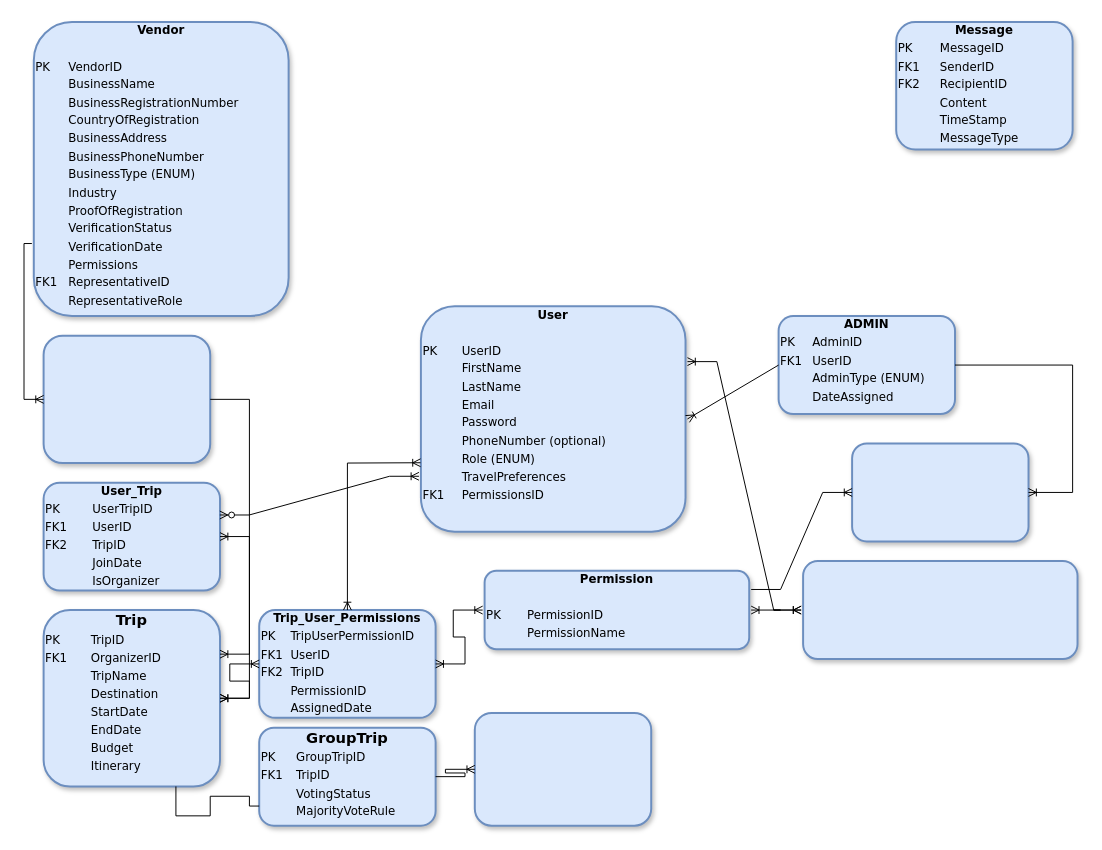
Image size: 1102x850. Some labels were removed from this diagram. The centre of each missing label's shape, as x and y in pixels:
ADMIN_Permissions PK AdminPermissionID FK1 AdminID FK2 PermissionID DateAssigned: pixel 941 493
Service PK ServiceID FK1 VendorID Name Type (ENUM) Price Availability: pixel 127 400
User_Permission PK UserPermissionID FK1 UserID FK2 PermissionID: pixel 941 611
Vote PK VoteID FK1 UserID FK2 GroupTripID FK3 ServiceID VoteValue (ENUM): pixel 563 770
